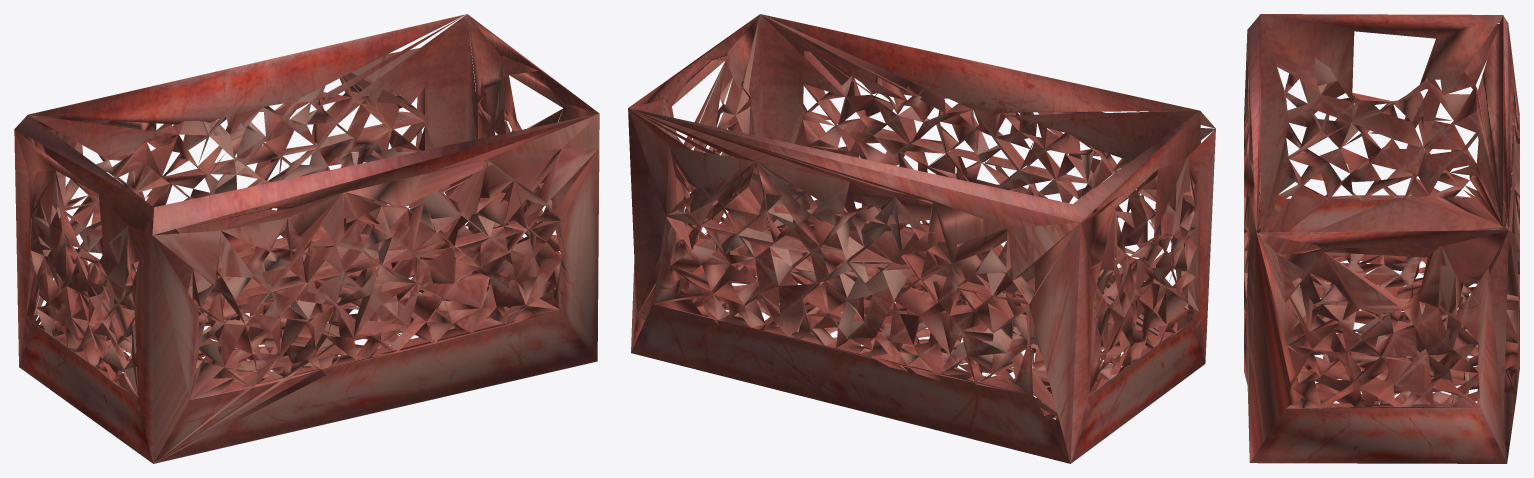
File: plastic_crate_03.fbx
The picture shows the model from 3 angles, left to right: view 1: azimuth 30°, elevation 25°; view 2: azimuth 150°, elevation 25°; view 3: azimuth 270°, elevation 25°; orthographic projection. The views are drawn at different scales.
Parts seen in each view (by area): view 1: plastic_crate_03_LOD0; view 2: plastic_crate_03_LOD0; view 3: plastic_crate_03_LOD0.
Boxes of the visible parts, left/top/right/bottom form: plastic_crate_03_LOD0: left=14, top=14, right=599, bottom=463; plastic_crate_03_LOD0: left=628, top=14, right=1215, bottom=463; plastic_crate_03_LOD0: left=1244, top=14, right=1519, bottom=463.
Size of what is drawn, in the model's own units: 48.21 by 25.99 by 26.5.
1 material, 1 textured.
